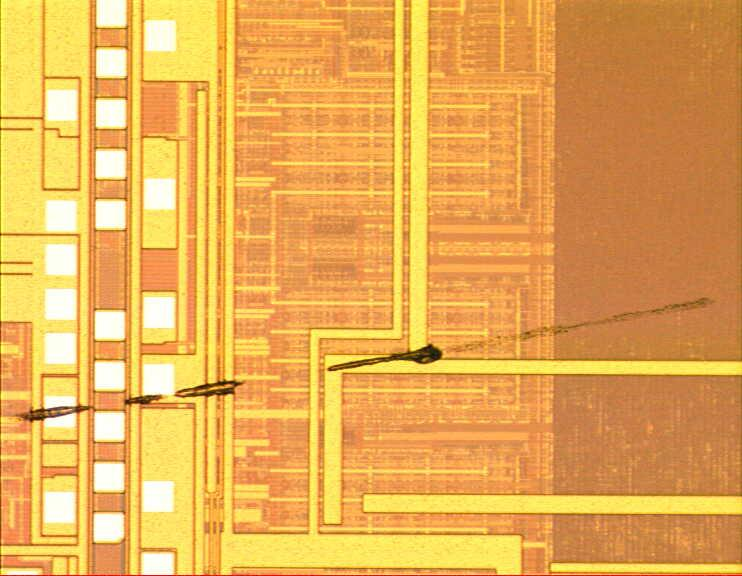SCRATCH: (8, 287, 724, 433)
